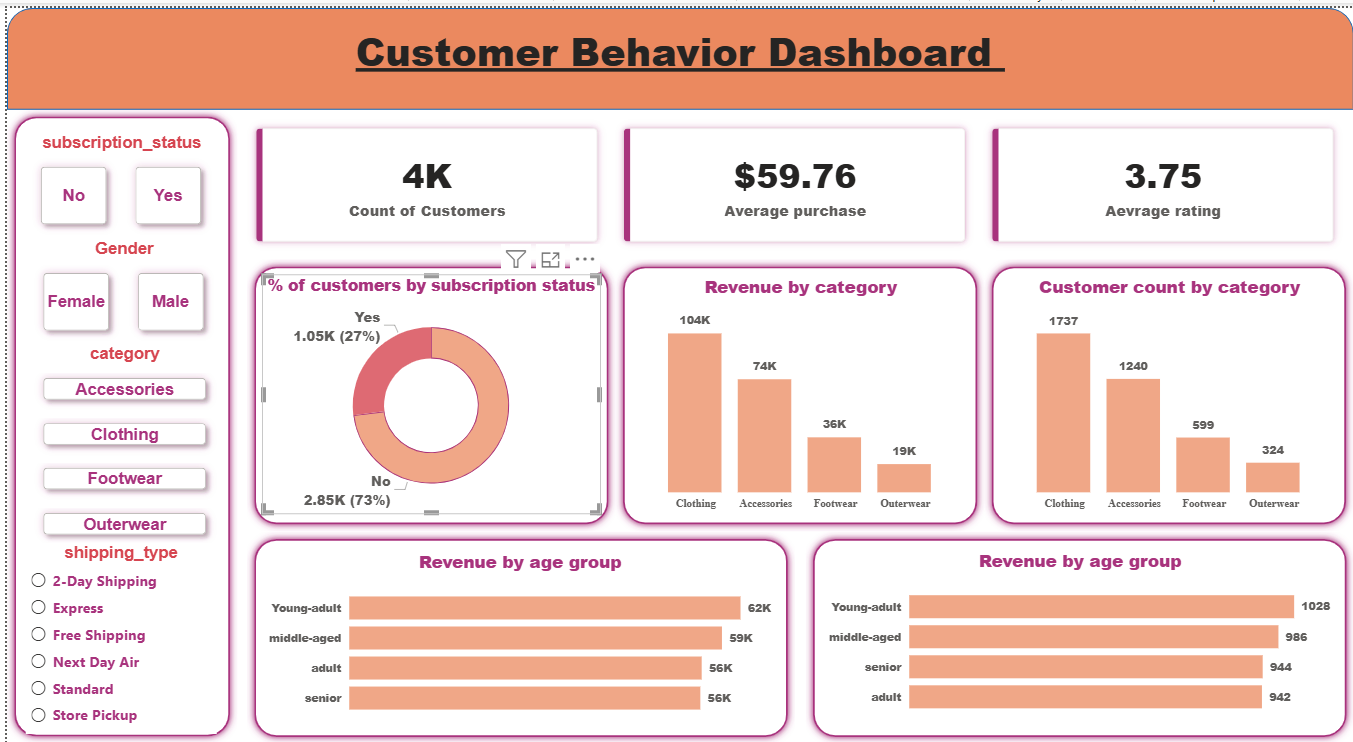

Layout of this report page (visuals, bound fields, positions):
{"tool":"powerbi","page":{"name":"Page 1","canvas":[1500,820],"ordinal":0},"visuals":[{"type":"shape","box":[0,0,1500.3,113.3],"z":0},{"type":"textbox","box":[0,12.8,1500.3,100.6],"z":1000},{"type":"cardVisual","fields":{"Data":["Customer_Shopping_data.Count of Customers","Customer_Shopping_data.Average purchase","Customer_Shopping_data.Aevrage rating"]},"box":[256.4,113.3,1243.9,168.6],"z":2000},{"type":"shape","box":[1089.4,280.5,410.8,303.2],"z":3000},{"type":"shape","box":[678.6,280.5,410.8,303.2],"z":4000},{"type":"shape","box":[267.8,280.5,410.8,303.2],"z":5000},{"type":"donutChart","title":"% of customers by subscription status","fields":{"Y":["CountNonNull(Customer_Shopping_data.customer_id)"],"Category":["Customer_Shopping_data.subscription_status"]},"box":[284.8,296.1,376.8,267.8],"z":6000},{"type":"columnChart","title":"Revenue by category","fields":{"Category":["Customer_Shopping_data.category"],"Y":["Sum(Customer_Shopping_data.purchase_amount)"]},"box":[700.5,296.6,367.7,270.2],"z":7000},{"type":"columnChart","title":"Customer count by category","fields":{"Category":["Customer_Shopping_data.category"],"Y":["CountNonNull(Customer_Shopping_data.customer_id)"]},"box":[1111.4,296.6,367.7,270.2],"z":8000},{"type":"shape","box":[0,113.3,256.4,706.9],"z":9000},{"type":"advancedSlicerVisual","fields":{"Values":["Customer_Shopping_data.subscription_status"]},"box":[21.3,138.8,213.9,119],"z":10000},{"type":"advancedSlicerVisual","fields":{"Values":["Customer_Shopping_data.gender"]},"box":[24.1,257.8,213.9,119],"z":11000},{"type":"advancedSlicerVisual","fields":{"Values":["Customer_Shopping_data.category"]},"box":[24.1,374,215.3,229.5],"z":12000},{"type":"listSlicer","fields":{"Values":["Customer_Shopping_data.shipping_type"]},"box":[21.3,596.4,212.5,212.5],"z":13000},{"type":"shape","box":[267.8,583.7,610.6,236.6],"z":14000},{"type":"barChart","title":"Revenue by age group","fields":{"Y":["Sum(Customer_Shopping_data.purchase_amount)"],"Category":["Customer_Shopping_data.age_group"]},"box":[286.2,603.5,572.3,198.3],"z":15000},{"type":"shape","box":[889.7,583.7,610.6,236.6],"z":16000},{"type":"barChart","title":"Revenue by age group","fields":{"Category":["Customer_Shopping_data.age_group"],"Y":["CountNonNull(Customer_Shopping_data.customer_id)"]},"box":[909.5,602.1,572.3,198.3],"z":17000}]}

Visuals, with their boxes in screenshot pixels (x1, y1, x2, y2), scaled from the page's 1500x820 canvas onto the 1353x742 screenshot:
shape: bbox=[0, 0, 1352, 103]
textbox: bbox=[0, 12, 1352, 103]
cardVisual - Customer_Shopping_data.Count of Customers x Customer_Shopping_data.Average purchase: bbox=[231, 103, 1352, 255]
shape: bbox=[983, 254, 1352, 528]
shape: bbox=[612, 254, 983, 528]
shape: bbox=[242, 254, 612, 528]
"% of customers by subscription status" donutChart: bbox=[257, 268, 597, 510]
"Revenue by category" columnChart: bbox=[632, 268, 964, 513]
"Customer count by category" columnChart: bbox=[1002, 268, 1334, 513]
shape: bbox=[0, 103, 231, 741]
advancedSlicerVisual - Customer_Shopping_data.subscription_status: bbox=[19, 126, 212, 233]
advancedSlicerVisual - Customer_Shopping_data.gender: bbox=[22, 233, 215, 341]
advancedSlicerVisual - Customer_Shopping_data.category: bbox=[22, 338, 216, 546]
listSlicer - Customer_Shopping_data.shipping_type: bbox=[19, 540, 211, 732]
shape: bbox=[242, 528, 792, 741]
"Revenue by age group" barChart: bbox=[258, 546, 774, 726]
shape: bbox=[803, 528, 1352, 741]
"Revenue by age group" barChart: bbox=[820, 545, 1337, 724]
